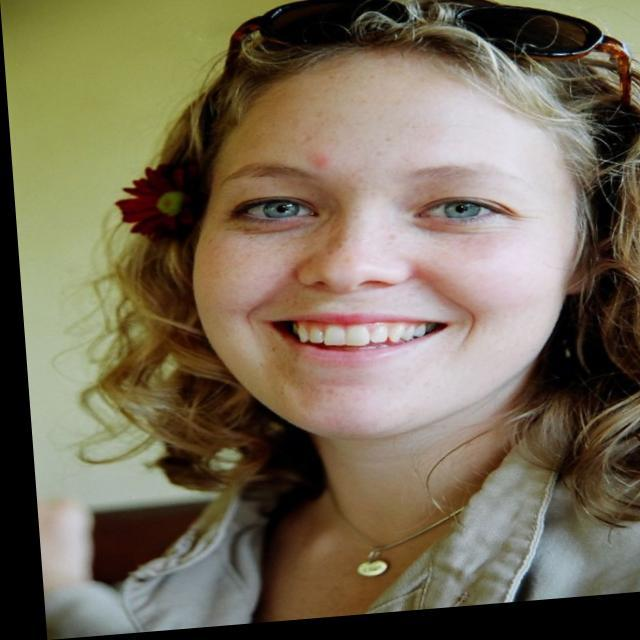Nonhelmet: (64, 0, 639, 535)
